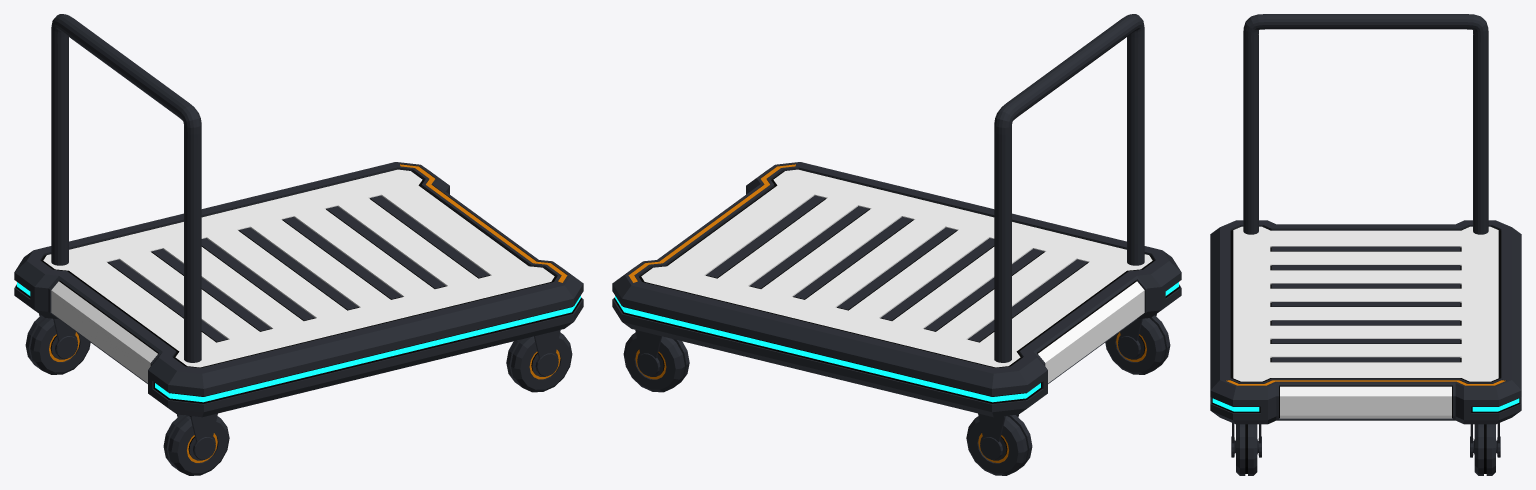
File: utility_cart.glb
The picture shows the model from 3 angles, left to right: view 1: azimuth 30°, elevation 25°; view 2: azimuth 150°, elevation 25°; view 3: azimuth 270°, elevation 25°; orthographic projection. The views are drawn at different scales.
Parts seen in each view (by area): view 1: SM_UtilityCart; view 2: SM_UtilityCart; view 3: SM_UtilityCart.
Part boxes in pixels (bbox=[...]): SM_UtilityCart: bbox=[14, 14, 583, 475]; SM_UtilityCart: bbox=[612, 14, 1181, 475]; SM_UtilityCart: bbox=[1210, 14, 1521, 475].
Bounding box in the file's own units: 1.08 × 0.9038 × 0.8131.
